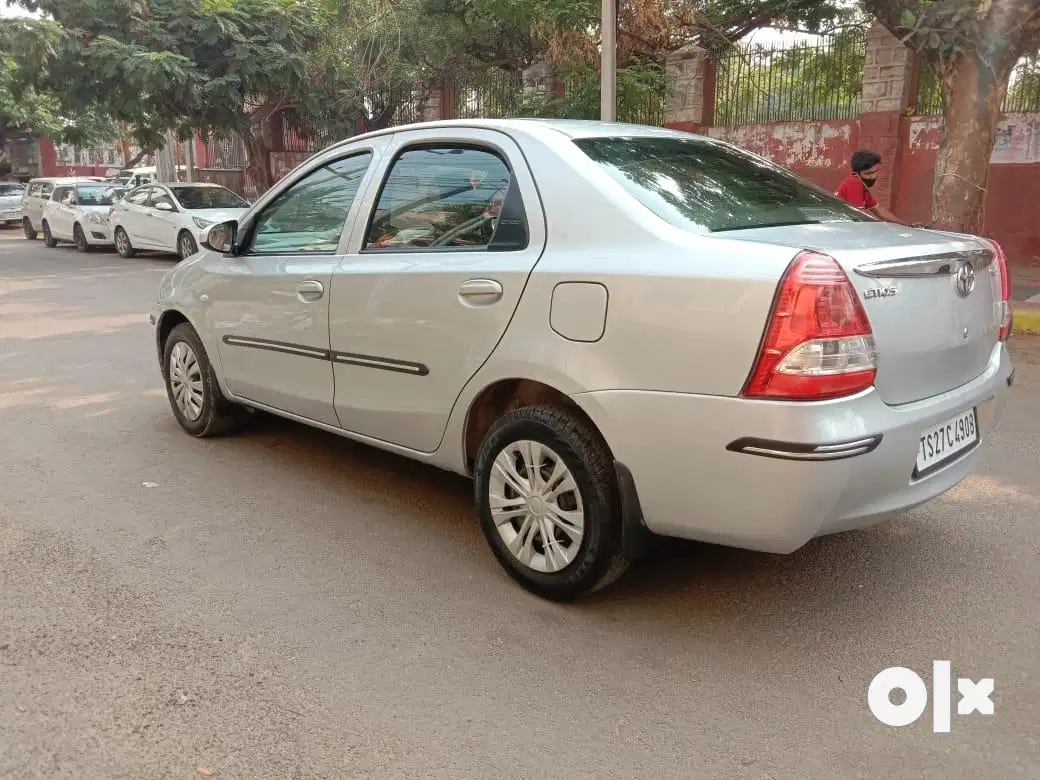car: (148, 134, 1019, 611)
numberplate: (905, 401, 986, 488)
